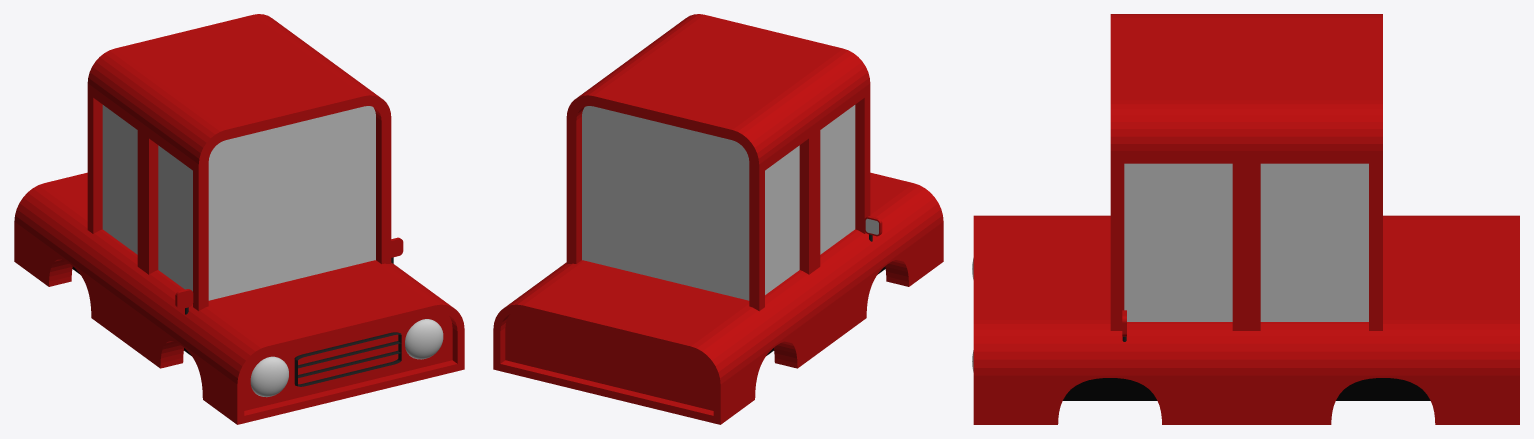
File: projeto-carro-carroceria.obj
3 views of the same model, side by side, from view 1: azimuth 30°, elevation 25°; view 2: azimuth 150°, elevation 25°; view 3: azimuth 270°, elevation 25° (orthographic). The views are drawn at different scales.
Visible parts, largest first — view 1: Cube.001, Cube, Plane, Sphere, Sphere.001, Cube.002; view 2: Cube.001, Cube; view 3: Cube.001, Cube, Cube.003.
Boxes of the visible parts, bbox=[...] form: Cube.001: bbox=[87, 14, 391, 311]; Cube: bbox=[14, 172, 464, 424]; Plane: bbox=[294, 332, 401, 386]; Sphere: bbox=[405, 319, 443, 359]; Sphere.001: bbox=[250, 356, 288, 397]; Cube.002: bbox=[175, 237, 403, 314]; Cube.001: bbox=[566, 14, 870, 311]; Cube: bbox=[493, 172, 943, 424]; Cube.001: bbox=[1110, 14, 1382, 330]; Cube: bbox=[973, 215, 1519, 424]; Cube.003: bbox=[1063, 378, 1430, 400].
Size of the model in its own units: 2 by 2.05 by 3.41.
